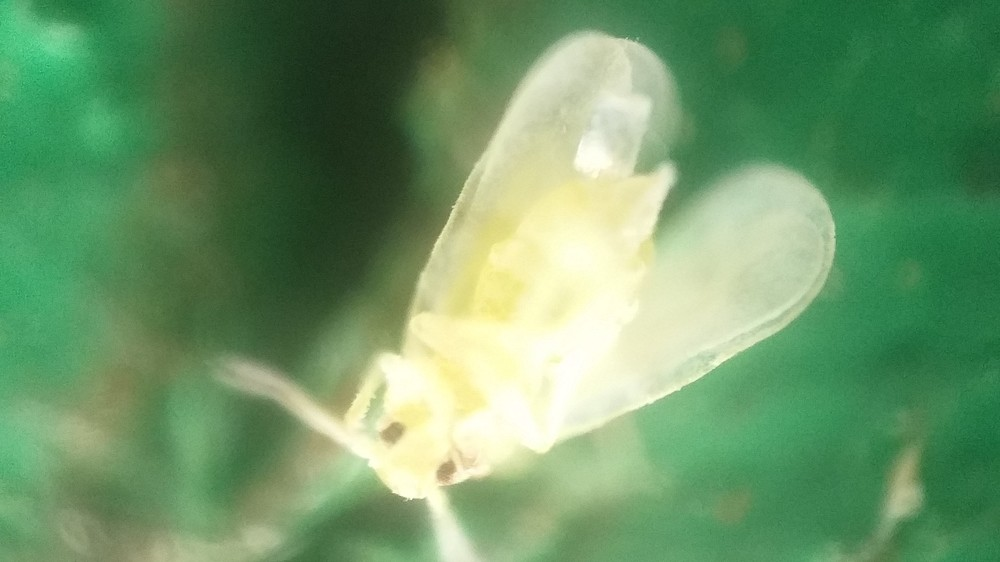Mosca Blanca: (197, 19, 842, 562)
